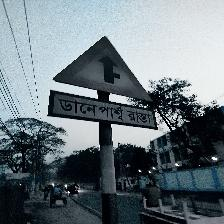Side-road-right: (49, 36, 157, 130)
